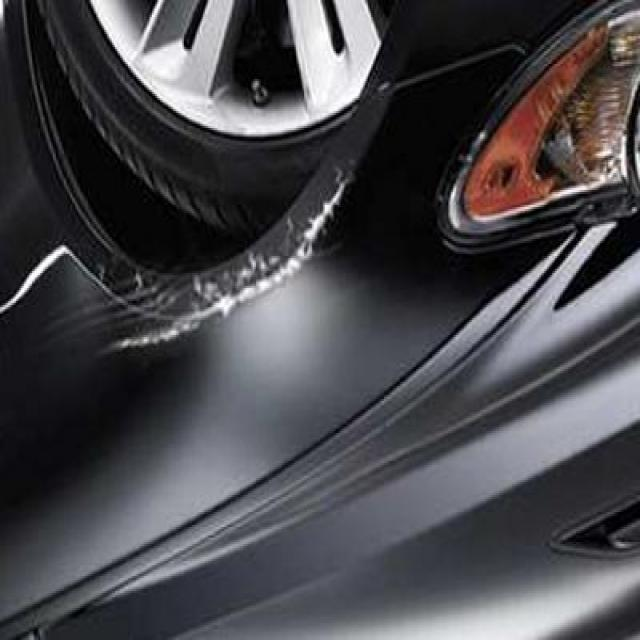scratch: (54, 154, 368, 390)
